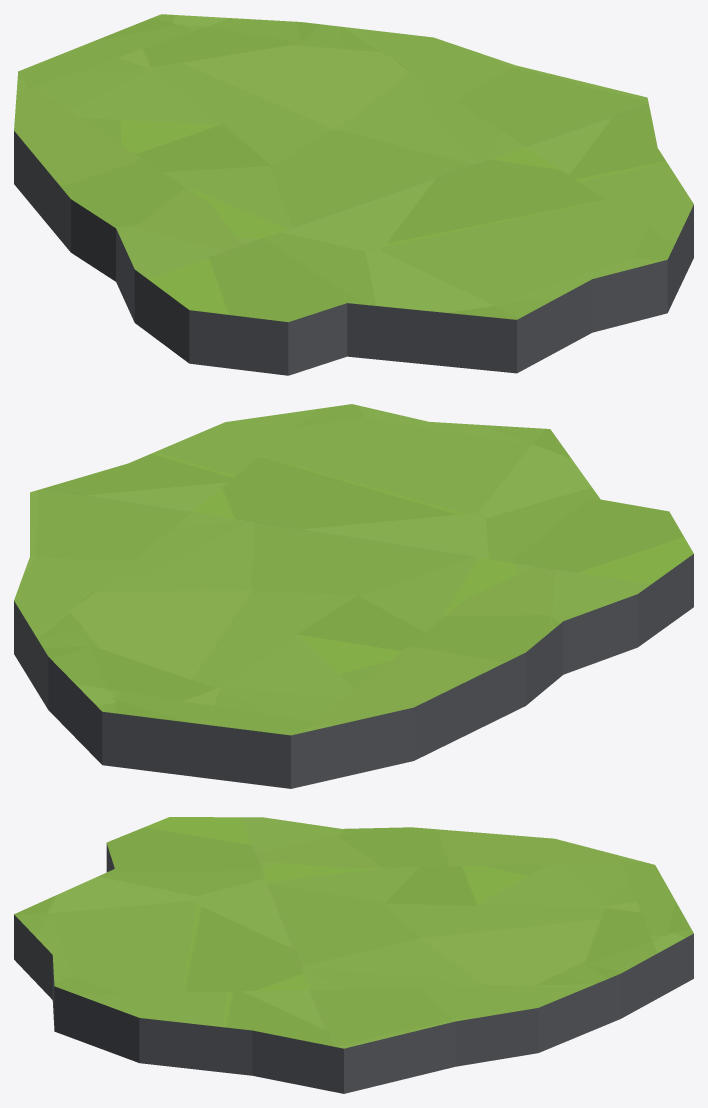
The picture shows the model from 3 angles, top to bottom: view 1: azimuth 30°, elevation 25°; view 2: azimuth 150°, elevation 25°; view 3: azimuth 270°, elevation 25°; orthographic projection. The views are drawn at different scales.
Parts seen in each view (by area): view 1: SF_06; view 2: SF_06; view 3: SF_06.
Boxes of the visible parts, bbox=[...] form: SF_06: bbox=[14, 14, 693, 375]; SF_06: bbox=[14, 404, 693, 788]; SF_06: bbox=[14, 817, 693, 1093].
Size of the model in its own units: 5.48 by 0.5 by 6.8.
